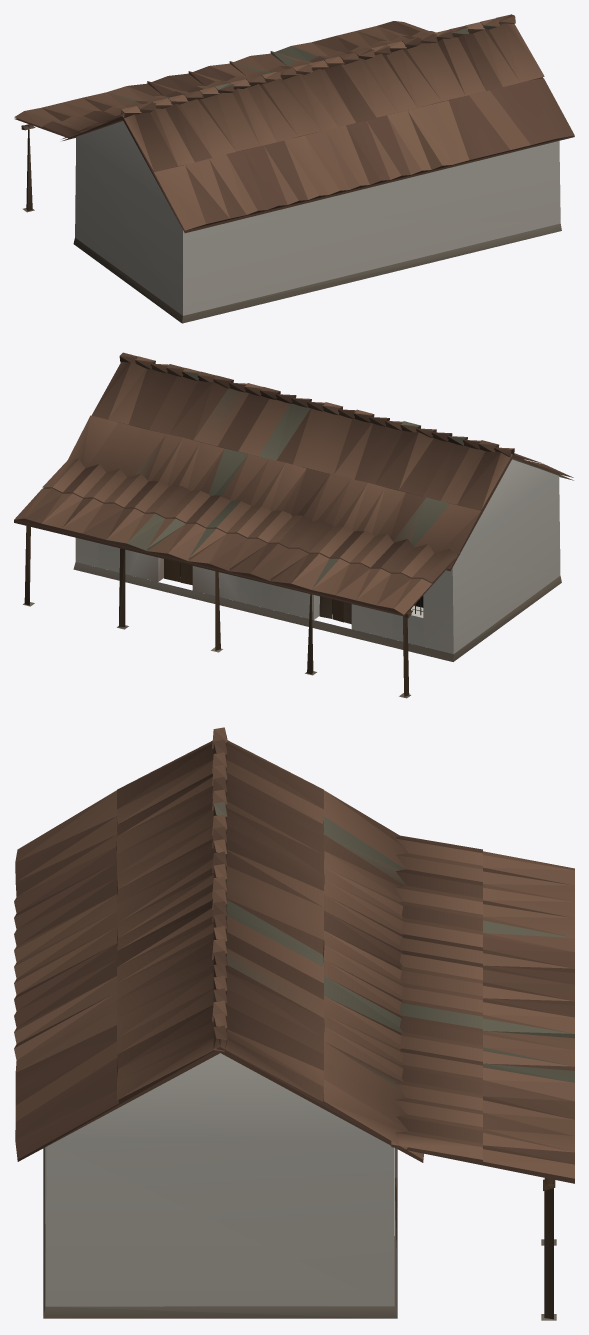
File: casa_quinta_a_lod.glb
3 views of the same model, one above another, from view 1: azimuth 30°, elevation 25°; view 2: azimuth 150°, elevation 25°; view 3: azimuth 270°, elevation 25° (orthographic). The views are drawn at different scales.
Visible parts, largest first — view 1: casa_quinta_a; view 2: casa_quinta_a; view 3: casa_quinta_a.
Boxes of the visible parts, x1,y1,x2,y2 form: casa_quinta_a: (14, 14, 574, 323); casa_quinta_a: (14, 352, 573, 698); casa_quinta_a: (14, 727, 574, 1320).
Bounding box in the file's own units: 11.44 × 4.88 × 8.71.
